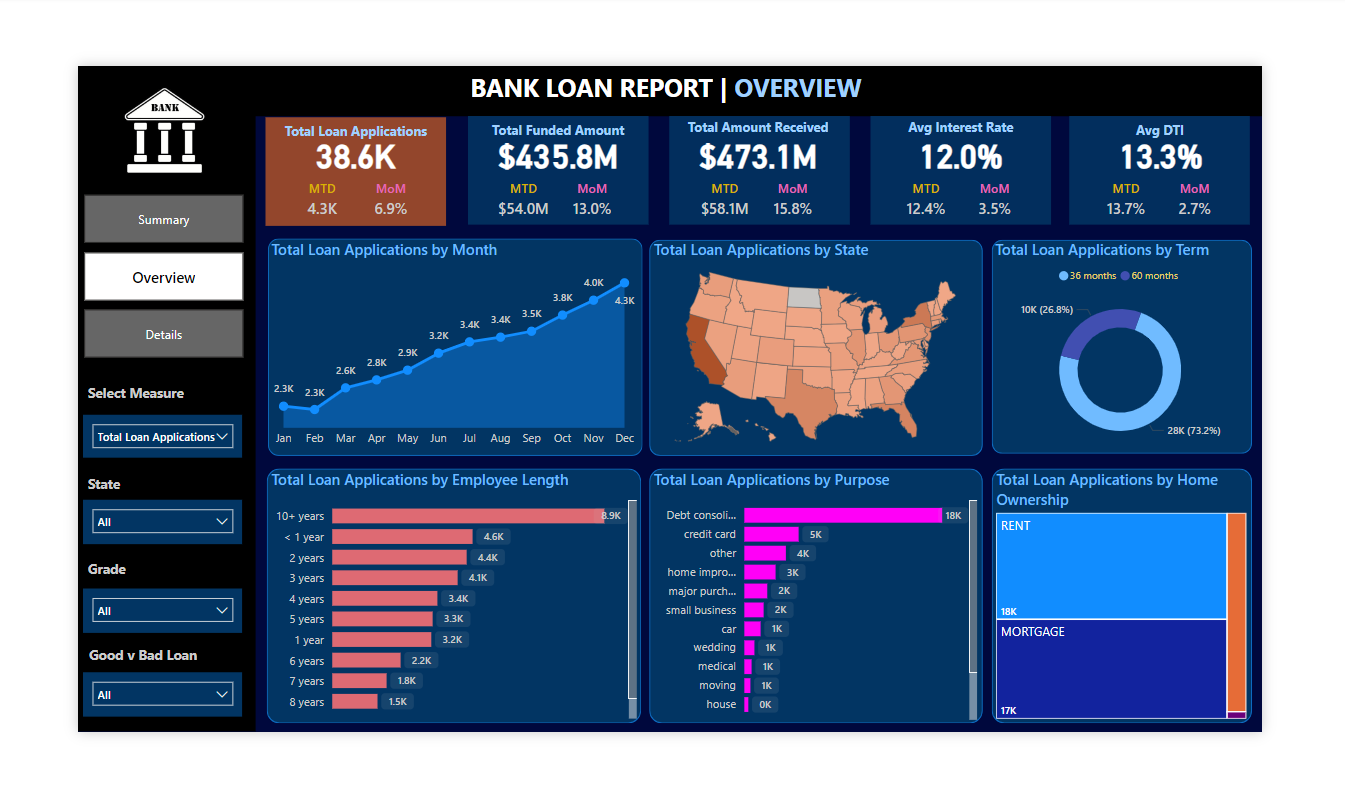

The page's visual inventory and layout, read from the dashboard file:
{"tool":"powerbi","page":{"name":"Overview","canvas":[1280,720],"ordinal":1},"visuals":[{"type":"shape","box":[0,0,1280.2,54.3],"z":0},{"type":"shape","box":[203.3,54.9,195.3,117.4],"z":1000},{"type":"shape","box":[0,54.7,192,665.3],"z":2000},{"type":"textbox","box":[418.5,0,486.4,48.1],"z":3000},{"type":"card","fields":{"Values":["bank_loan_data.Total Loan Applications"]},"box":[203.3,72.4,195.3,44.2],"z":4000},{"type":"textbox","box":[203.3,54.9,195.3,34.9],"z":5000},{"type":"card","title":"MTD","fields":{"Values":["bank_loan_data.MTD Loan Applications"]},"box":[227.2,123.5,74.1,49.4],"z":6000},{"type":"card","title":"MoM","fields":{"Values":["bank_loan_data.MoM Loan Applications"]},"box":[301.2,123.5,74.1,49.4],"z":7000},{"type":"shape","box":[421.1,54.2,195.3,117.4],"z":8000},{"type":"card","fields":{"Values":["bank_loan_data.Total Funded Amount"]},"box":[421,72.8,195.1,44.4],"z":9000},{"type":"textbox","box":[421,54.3,195.1,35.8],"z":10000},{"type":"card","title":"MTD","fields":{"Values":["bank_loan_data.MTD Funded Amount"]},"box":[444.4,123.5,74.1,48.1],"z":11000},{"type":"card","title":"MoM","fields":{"Values":["bank_loan_data.MoM Total Funded Amount"]},"box":[518.5,123.5,74.1,48.1],"z":12000},{"type":"shape","box":[638.8,54.4,195.3,117.4],"z":13000},{"type":"card","fields":{"Values":["bank_loan_data.Total Amount Received"]},"box":[638.3,72.8,195.1,44.4],"z":14000},{"type":"textbox","box":[638.3,51.9,195.1,34.6],"z":15000},{"type":"card","title":"MTD","fields":{"Values":["bank_loan_data.MTD Total Amount Received"]},"box":[661.7,123.5,74.1,49.4],"z":16000},{"type":"card","title":"MoM","fields":{"Values":["bank_loan_data.MoM Total Received Amount"]},"box":[735.8,123.5,75.3,49.4],"z":17000},{"type":"shape","box":[856.5,54.4,195.3,117.4],"z":18000},{"type":"card","fields":{"Values":["bank_loan_data.Average Interest Rate"]},"box":[856.8,72.8,195.1,44.4],"z":19000},{"type":"textbox","box":[856.8,51.9,195.1,34.6],"z":20000},{"type":"card","title":"MTD","fields":{"Values":["bank_loan_data.MTD Avg Int Rate"]},"box":[880.2,123.5,74.1,48.1],"z":21000},{"type":"card","title":"MoM","fields":{"Values":["bank_loan_data.MoM Avg Int Rate"]},"box":[954.3,123.5,74.1,48.1],"z":22000},{"type":"shape","box":[1071.7,53.7,195.3,117.4],"z":23000},{"type":"card","fields":{"Values":["bank_loan_data.Avg DTI"]},"box":[1072.8,72.8,195.1,44.4],"z":24000},{"type":"textbox","box":[1071.6,54.3,196.3,32.1],"z":25000},{"type":"card","title":"MTD","fields":{"Values":["bank_loan_data.MTD DTI"]},"box":[1096.3,123.5,74.1,48.1],"z":26000},{"type":"card","title":"MoM","fields":{"Values":["bank_loan_data.MoM Avg DTI"]},"box":[1170.4,123.5,74.1,48.1],"z":27000},{"type":"shape","box":[204.9,186.4,405,235],"z":28000},{"type":"slicer","fields":{"Values":["bank_loan_data.address_state"]},"box":[5.7,468.7,172,48],"z":29000},{"type":"textbox","box":[5.7,436.7,96,32],"z":30000},{"type":"slicer","fields":{"Values":["bank_loan_data.grade"]},"box":[5.7,564.7,172,48],"z":31000},{"type":"textbox","box":[5.7,528.7,105.3,38.7],"z":32000},{"type":"slicer","fields":{"Values":["bank_loan_data.Good v Bad Loan"]},"box":[5.7,655.3,172,48],"z":33000},{"type":"textbox","box":[6.2,621.5,172.5,33.8],"z":34000},{"type":"areaChart","fields":{"Y":["bank_loan_data.Total Loan Applications"],"Category":["Date Table.Month"]},"box":[203.8,186.9,405.4,233.8],"z":35000},{"type":"slicer","fields":{"Values":["Select Measure.Select Measure"]},"box":[5.7,376.7,172,46.7],"z":36000},{"type":"textbox","box":[5.7,338,137.3,38.7],"z":37000},{"type":"shape","box":[617.4,187.2,360.5,233.7],"z":38000},{"type":"shape","box":[987.2,434.9,281.4,275.6],"z":39000},{"type":"shapeMap","fields":{"Value":["bank_loan_data.Total Loan Applications"],"Category":["bank_loan_data.address_state"]},"box":[617.7,186.9,359.2,234.6],"z":40000},{"type":"shape","box":[987.2,187.2,281.4,231.4],"z":41000},{"type":"donutChart","fields":{"Y":["bank_loan_data.Total Loan Applications"],"Category":["bank_loan_data.term"]},"box":[986.9,186.2,280.8,235.4],"z":42000},{"type":"shape","box":[203.5,434.9,404.7,275.6],"z":43000},{"type":"barChart","fields":{"Y":["bank_loan_data.Total Loan Applications"],"Category":["bank_loan_data.emp_length"]},"box":[203.5,434.9,404.7,275.6],"z":44000},{"type":"shape","box":[617.4,434.9,360.5,275.6],"z":45000},{"type":"barChart","fields":{"Y":["bank_loan_data.Total Loan Applications"],"Category":["bank_loan_data.purpose"]},"box":[617.7,434.6,359.2,276.9],"z":46000},{"type":"treemap","fields":{"Values":["bank_loan_data.Total Loan Applications"],"Group":["bank_loan_data.home_ownership"]},"box":[987.2,434.9,280.2,275.6],"z":47000},{"type":"pageNavigator","box":[6.2,138.8,172.5,178.8],"z":47001},{"type":"image","box":[21.2,3.8,143.8,131.2],"z":47002}]}

Visuals, with their boxes on the page's 1280x720 design canvas (x1, y1, x2, y2). These are canvas units, not pixel positions in the 1345x799 screenshot, which may show the page scaled, cropped or inside an application window:
shape: left=0, top=0, right=1280, bottom=54
shape: left=203, top=55, right=399, bottom=172
shape: left=0, top=55, right=192, bottom=720
textbox: left=418, top=0, right=905, bottom=48
card - bank_loan_data.Total Loan Applications: left=203, top=72, right=399, bottom=117
textbox: left=203, top=55, right=399, bottom=90
"MTD" card: left=227, top=124, right=301, bottom=173
"MoM" card: left=301, top=124, right=375, bottom=173
shape: left=421, top=54, right=616, bottom=172
card - bank_loan_data.Total Funded Amount: left=421, top=73, right=616, bottom=117
textbox: left=421, top=54, right=616, bottom=90
"MTD" card: left=444, top=124, right=518, bottom=172
"MoM" card: left=518, top=124, right=593, bottom=172
shape: left=639, top=54, right=834, bottom=172
card - bank_loan_data.Total Amount Received: left=638, top=73, right=833, bottom=117
textbox: left=638, top=52, right=833, bottom=86
"MTD" card: left=662, top=124, right=736, bottom=173
"MoM" card: left=736, top=124, right=811, bottom=173
shape: left=856, top=54, right=1052, bottom=172
card - bank_loan_data.Average Interest Rate: left=857, top=73, right=1052, bottom=117
textbox: left=857, top=52, right=1052, bottom=86
"MTD" card: left=880, top=124, right=954, bottom=172
"MoM" card: left=954, top=124, right=1028, bottom=172
shape: left=1072, top=54, right=1267, bottom=171
card - bank_loan_data.Avg DTI: left=1073, top=73, right=1268, bottom=117
textbox: left=1072, top=54, right=1268, bottom=86
"MTD" card: left=1096, top=124, right=1170, bottom=172
"MoM" card: left=1170, top=124, right=1244, bottom=172
shape: left=205, top=186, right=610, bottom=421
slicer - bank_loan_data.address_state: left=6, top=469, right=178, bottom=517
textbox: left=6, top=437, right=102, bottom=469
slicer - bank_loan_data.grade: left=6, top=565, right=178, bottom=613
textbox: left=6, top=529, right=111, bottom=567
slicer - bank_loan_data.Good v Bad Loan: left=6, top=655, right=178, bottom=703
textbox: left=6, top=622, right=179, bottom=655
areaChart - bank_loan_data.Total Loan Applications x Date Table.Month: left=204, top=187, right=609, bottom=421
slicer - Select Measure.Select Measure: left=6, top=377, right=178, bottom=423
textbox: left=6, top=338, right=143, bottom=377
shape: left=617, top=187, right=978, bottom=421
shape: left=987, top=435, right=1269, bottom=710
shapeMap - bank_loan_data.Total Loan Applications x bank_loan_data.address_state: left=618, top=187, right=977, bottom=422
shape: left=987, top=187, right=1269, bottom=419
donutChart - bank_loan_data.Total Loan Applications x bank_loan_data.term: left=987, top=186, right=1268, bottom=422
shape: left=204, top=435, right=608, bottom=710
barChart - bank_loan_data.Total Loan Applications x bank_loan_data.emp_length: left=204, top=435, right=608, bottom=710
shape: left=617, top=435, right=978, bottom=710
barChart - bank_loan_data.Total Loan Applications x bank_loan_data.purpose: left=618, top=435, right=977, bottom=712
treemap - bank_loan_data.Total Loan Applications x bank_loan_data.home_ownership: left=987, top=435, right=1267, bottom=710
pageNavigator: left=6, top=139, right=179, bottom=318
image: left=21, top=4, right=165, bottom=135
